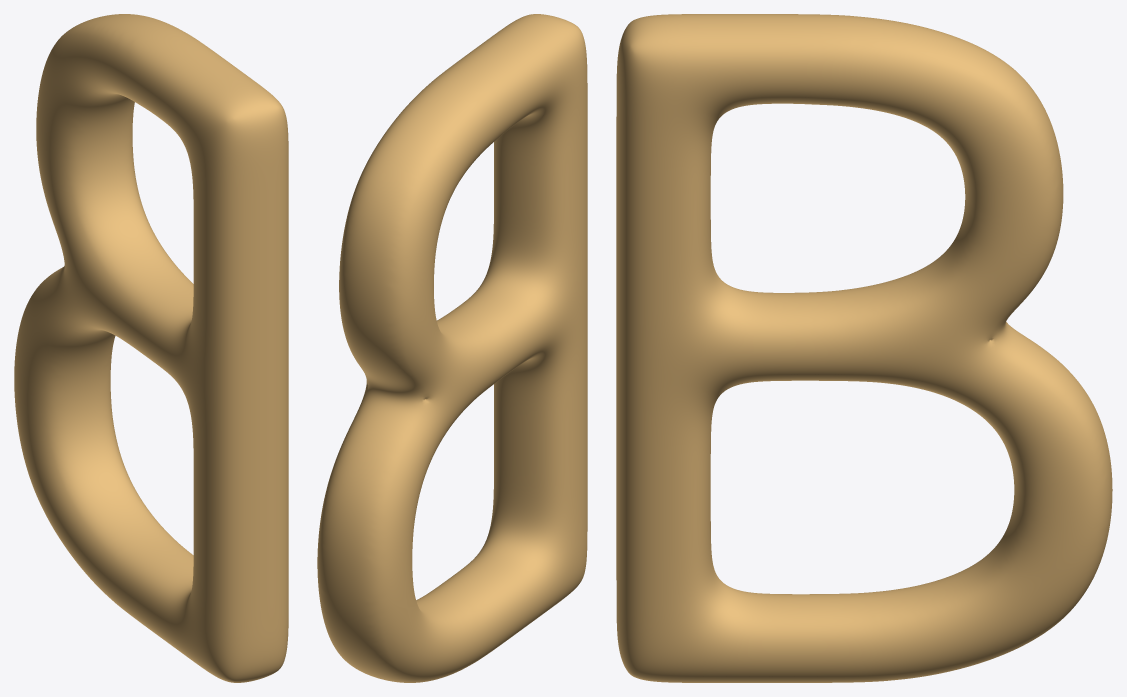
File: 3DText-1.glb
The picture shows the model from 3 angles, left to right: view 1: azimuth 30°, elevation 25°; view 2: azimuth 150°, elevation 25°; view 3: azimuth 270°, elevation 25°; orthographic projection. The views are drawn at different scales.
Parts seen in each view (by area): view 1: Text.001; view 2: Text.001; view 3: Text.001.
Part boxes in pixels (left/top/right/bottom): Text.001: left=14, top=14, right=288, bottom=682; Text.001: left=317, top=14, right=587, bottom=682; Text.001: left=616, top=14, right=1112, bottom=682.
Size of the model in its own units: 0.5797 by 3.95 by 2.71.
